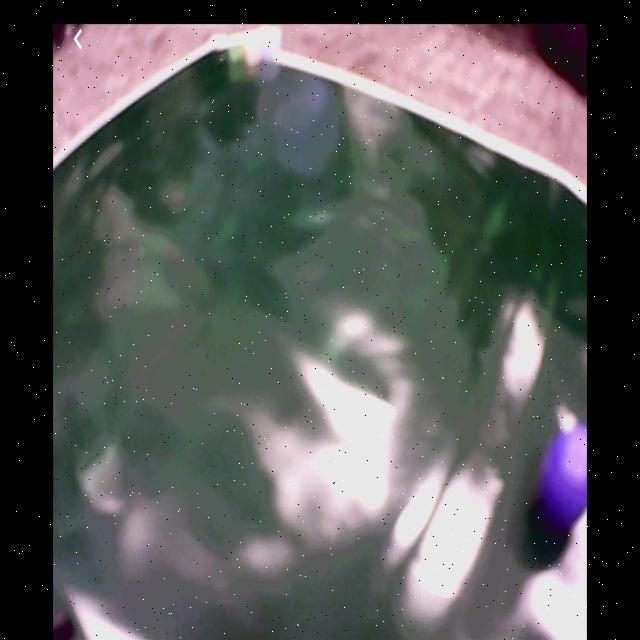ball: (540, 429, 588, 526)
